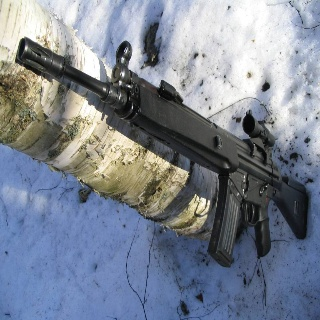rifle: (14, 34, 309, 272)
